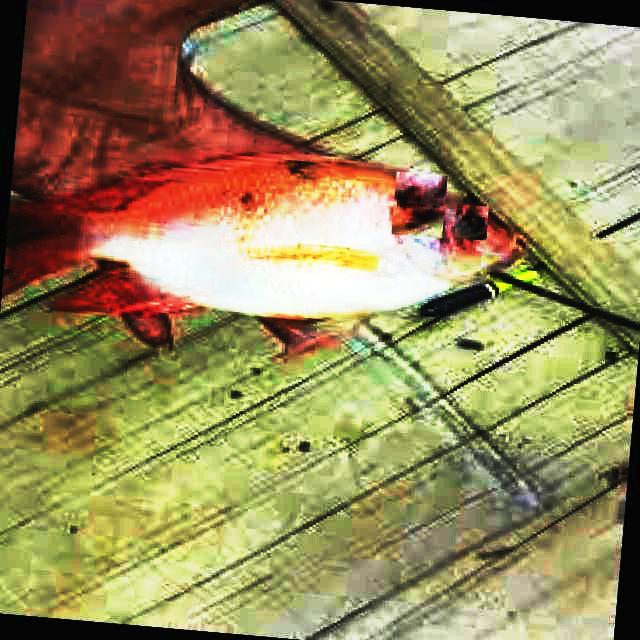Aeromonas Septicemia: (0, 149, 528, 319)
